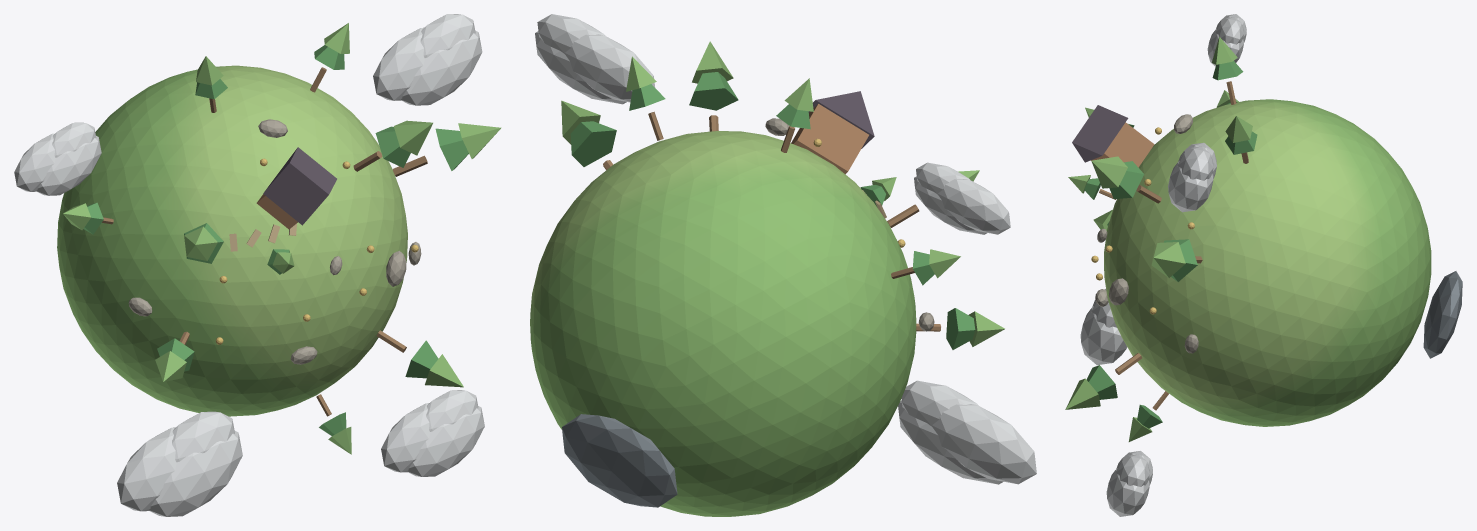
The model's file is tiny_planet_low_poly_asset.glb.
3 renders of one model, left to right at view 1: azimuth 30°, elevation 25°; view 2: azimuth 150°, elevation 25°; view 3: azimuth 270°, elevation 25°, orthographic. The views are drawn at different scales.
Visible parts, largest first — view 1: faceted_green_planet, soft_faceted_cloud_1_4, soft_faceted_cloud_1_3, tiny_cabin_roof, soft_faceted_cloud_2_4, soft_faceted_cloud_3_4, soft_faceted_cloud_2_3, soft_faceted_cloud_3_3, soft_faceted_cloud_1_2, soft_faceted_cloud_4_4, soft_faceted_cloud_2_2, soft_faceted_cloud_4_3 (+11 smaller); view 2: faceted_green_planet, soft_shadow_anchor, soft_faceted_cloud_1_3, soft_faceted_cloud_2_3, tiny_cabin_body, soft_faceted_cloud_4_3, soft_faceted_cloud_1_2, soft_faceted_cloud_1_4, low_poly_pine_03_foliage_1, soft_faceted_cloud_2_2, soft_faceted_cloud_2_4, tiny_cabin_roof (+9 smaller); view 3: faceted_green_planet, soft_shadow_anchor, tiny_cabin_roof, soft_faceted_cloud_1_4, soft_faceted_cloud_2_4, tiny_cabin_body, soft_faceted_cloud_3_4, soft_faceted_cloud_2_2, low_poly_pine_03_foliage_2, soft_faceted_cloud_3_2, low_poly_pine_01_foliage_2, low_poly_pine_01_foliage_1 (+5 smaller).
Part boxes in pixels (box(x1,y1,x2,y2)): faceted_green_planet: box(57, 65, 407, 416); soft_faceted_cloud_1_4: box(149, 431, 242, 516); soft_faceted_cloud_1_3: box(117, 427, 176, 511); tiny_cabin_roof: box(263, 147, 336, 225); soft_faceted_cloud_2_4: box(400, 30, 482, 105); soft_faceted_cloud_3_4: box(407, 406, 484, 476); soft_faceted_cloud_2_3: box(373, 27, 424, 100); soft_faceted_cloud_3_3: box(381, 403, 430, 472); soft_faceted_cloud_1_2: box(172, 411, 234, 462); soft_faceted_cloud_4_4: box(36, 136, 101, 195); soft_faceted_cloud_2_2: box(420, 14, 475, 57); soft_faceted_cloud_4_3: box(14, 133, 55, 191); faceted_green_planet: box(530, 131, 916, 516); soft_shadow_anchor: box(562, 414, 677, 507); soft_faceted_cloud_1_3: box(932, 404, 1036, 484); soft_faceted_cloud_2_3: box(565, 34, 655, 102); tiny_cabin_body: box(791, 104, 868, 174); soft_faceted_cloud_4_3: box(938, 179, 1010, 234); soft_faceted_cloud_1_2: box(901, 380, 978, 426); soft_faceted_cloud_1_4: box(898, 400, 1003, 484); low_poly_pine_03_foliage_1: box(570, 121, 616, 166); soft_faceted_cloud_2_2: box(537, 14, 605, 53); soft_faceted_cloud_2_4: box(535, 31, 626, 104); tiny_cabin_roof: box(808, 91, 874, 148); faceted_green_planet: box(1104, 99, 1431, 426); soft_shadow_anchor: box(1423, 271, 1462, 358); tiny_cabin_roof: box(1072, 105, 1128, 162); soft_faceted_cloud_1_4: box(1080, 306, 1127, 365); soft_faceted_cloud_2_4: box(1168, 161, 1213, 212); tiny_cabin_body: box(1091, 122, 1154, 167); soft_faceted_cloud_3_4: box(1106, 468, 1149, 516); soft_faceted_cloud_2_2: box(1177, 146, 1213, 180); low_poly_pine_03_foliage_2: box(1151, 242, 1185, 277); soft_faceted_cloud_3_2: box(1116, 454, 1149, 486); low_poly_pine_01_foliage_2: box(1091, 156, 1127, 188); low_poly_pine_01_foliage_1: box(1109, 161, 1144, 198).
Bounding box in the file's own units: 5.87 × 5.32 × 4.85.
